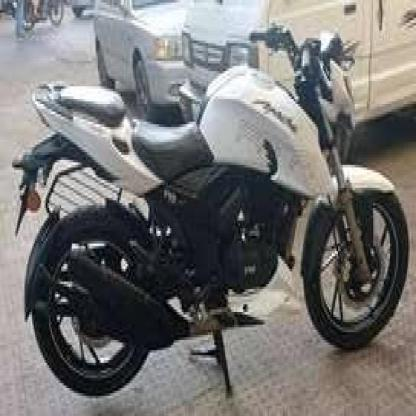bike: (11, 71, 411, 401)
